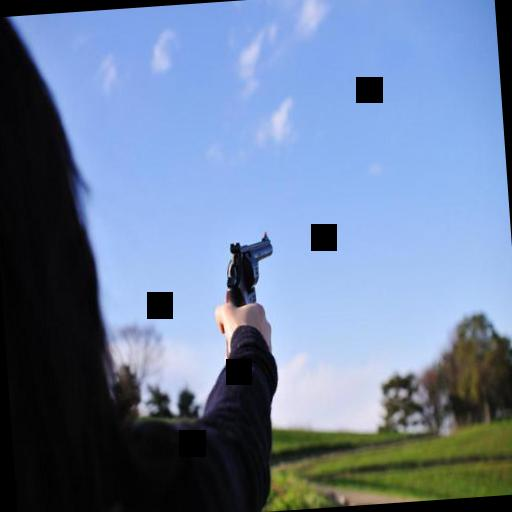Handgun: (208, 223, 278, 318)
